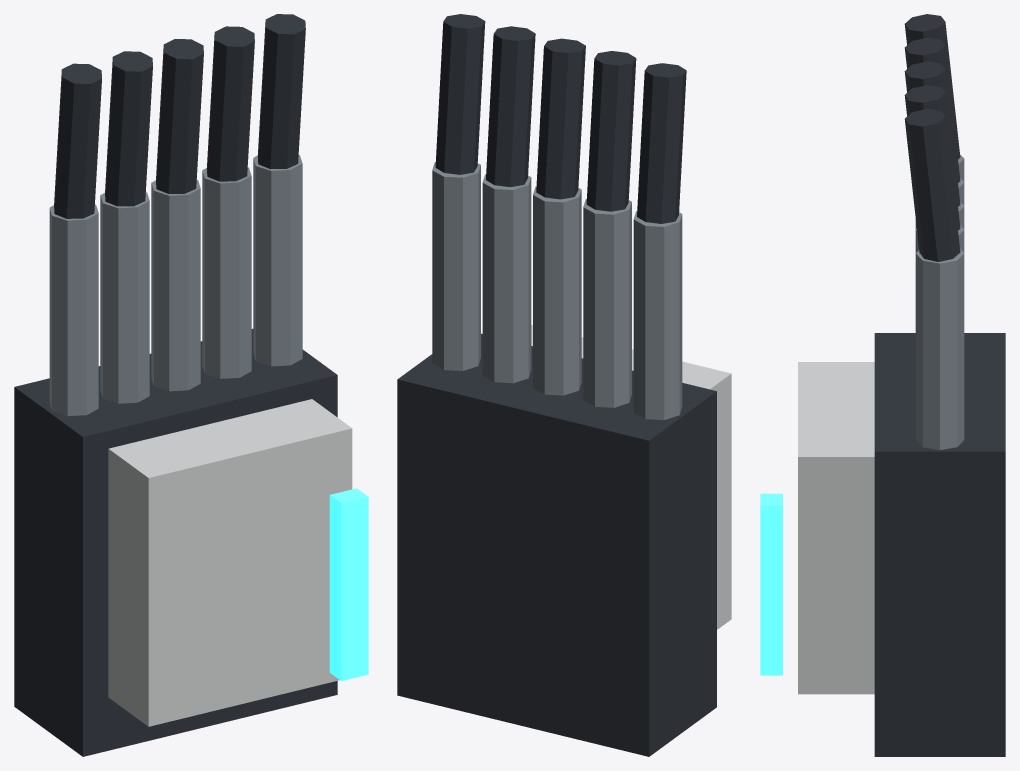
The model's file is cyber_hand.glb.
The picture shows the model from 3 angles, left to right: view 1: azimuth 30°, elevation 25°; view 2: azimuth 150°, elevation 25°; view 3: azimuth 270°, elevation 25°; orthographic projection. The views are drawn at different scales.
Visible parts, largest first — view 1: part_001, part_000, part_002, part_008, part_004, part_006, part_010, part_012, part_005, part_009, part_003, part_011 (+1 smaller); view 2: part_000, part_002, part_008, part_004, part_006, part_010, part_003, part_007, part_009, part_005, part_011, part_001; view 3: part_000, part_001, part_010, part_011, part_012, part_003, part_007, part_009, part_005.
Part boxes in pixels (x1,y1,x2,y2): part_001: [108, 399, 352, 726]; part_000: [14, 328, 337, 756]; part_002: [49, 204, 98, 416]; part_008: [202, 167, 251, 378]; part_004: [100, 192, 149, 403]; part_006: [151, 180, 200, 391]; part_010: [253, 155, 302, 366]; part_012: [329, 488, 368, 680]; part_005: [105, 51, 152, 206]; part_009: [207, 26, 254, 181]; part_003: [54, 63, 101, 218]; part_011: [257, 14, 305, 169]; part_000: [397, 333, 716, 756]; part_002: [633, 211, 682, 419]; part_008: [482, 174, 531, 383]; part_004: [583, 199, 631, 407]; part_006: [533, 186, 581, 395]; part_010: [432, 162, 480, 370]; part_003: [637, 63, 686, 223]; part_007: [536, 38, 585, 199]; part_009: [486, 26, 535, 187]; part_005: [586, 51, 636, 211]; part_011: [435, 14, 485, 174]; part_001: [531, 324, 731, 629]; part_000: [874, 333, 1005, 756]; part_001: [798, 362, 874, 694]; part_010: [915, 249, 964, 449]; part_011: [904, 109, 960, 261]; part_012: [760, 493, 782, 675]; part_003: [904, 14, 960, 159]; part_007: [904, 61, 960, 206]; part_009: [904, 85, 960, 230]; part_005: [904, 37, 960, 182].
Bounding box in the file's own units: 0.075 × 0.1855 × 0.0655.
